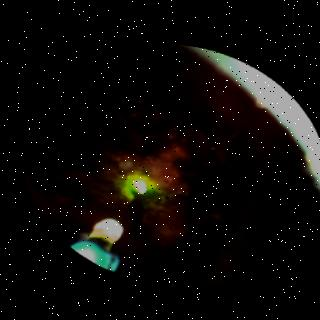fiber: (67, 244, 114, 272)
laser: (82, 221, 118, 243), (121, 178, 149, 199)
stone: (23, 82, 228, 253)
tissue: (36, 53, 309, 285)
